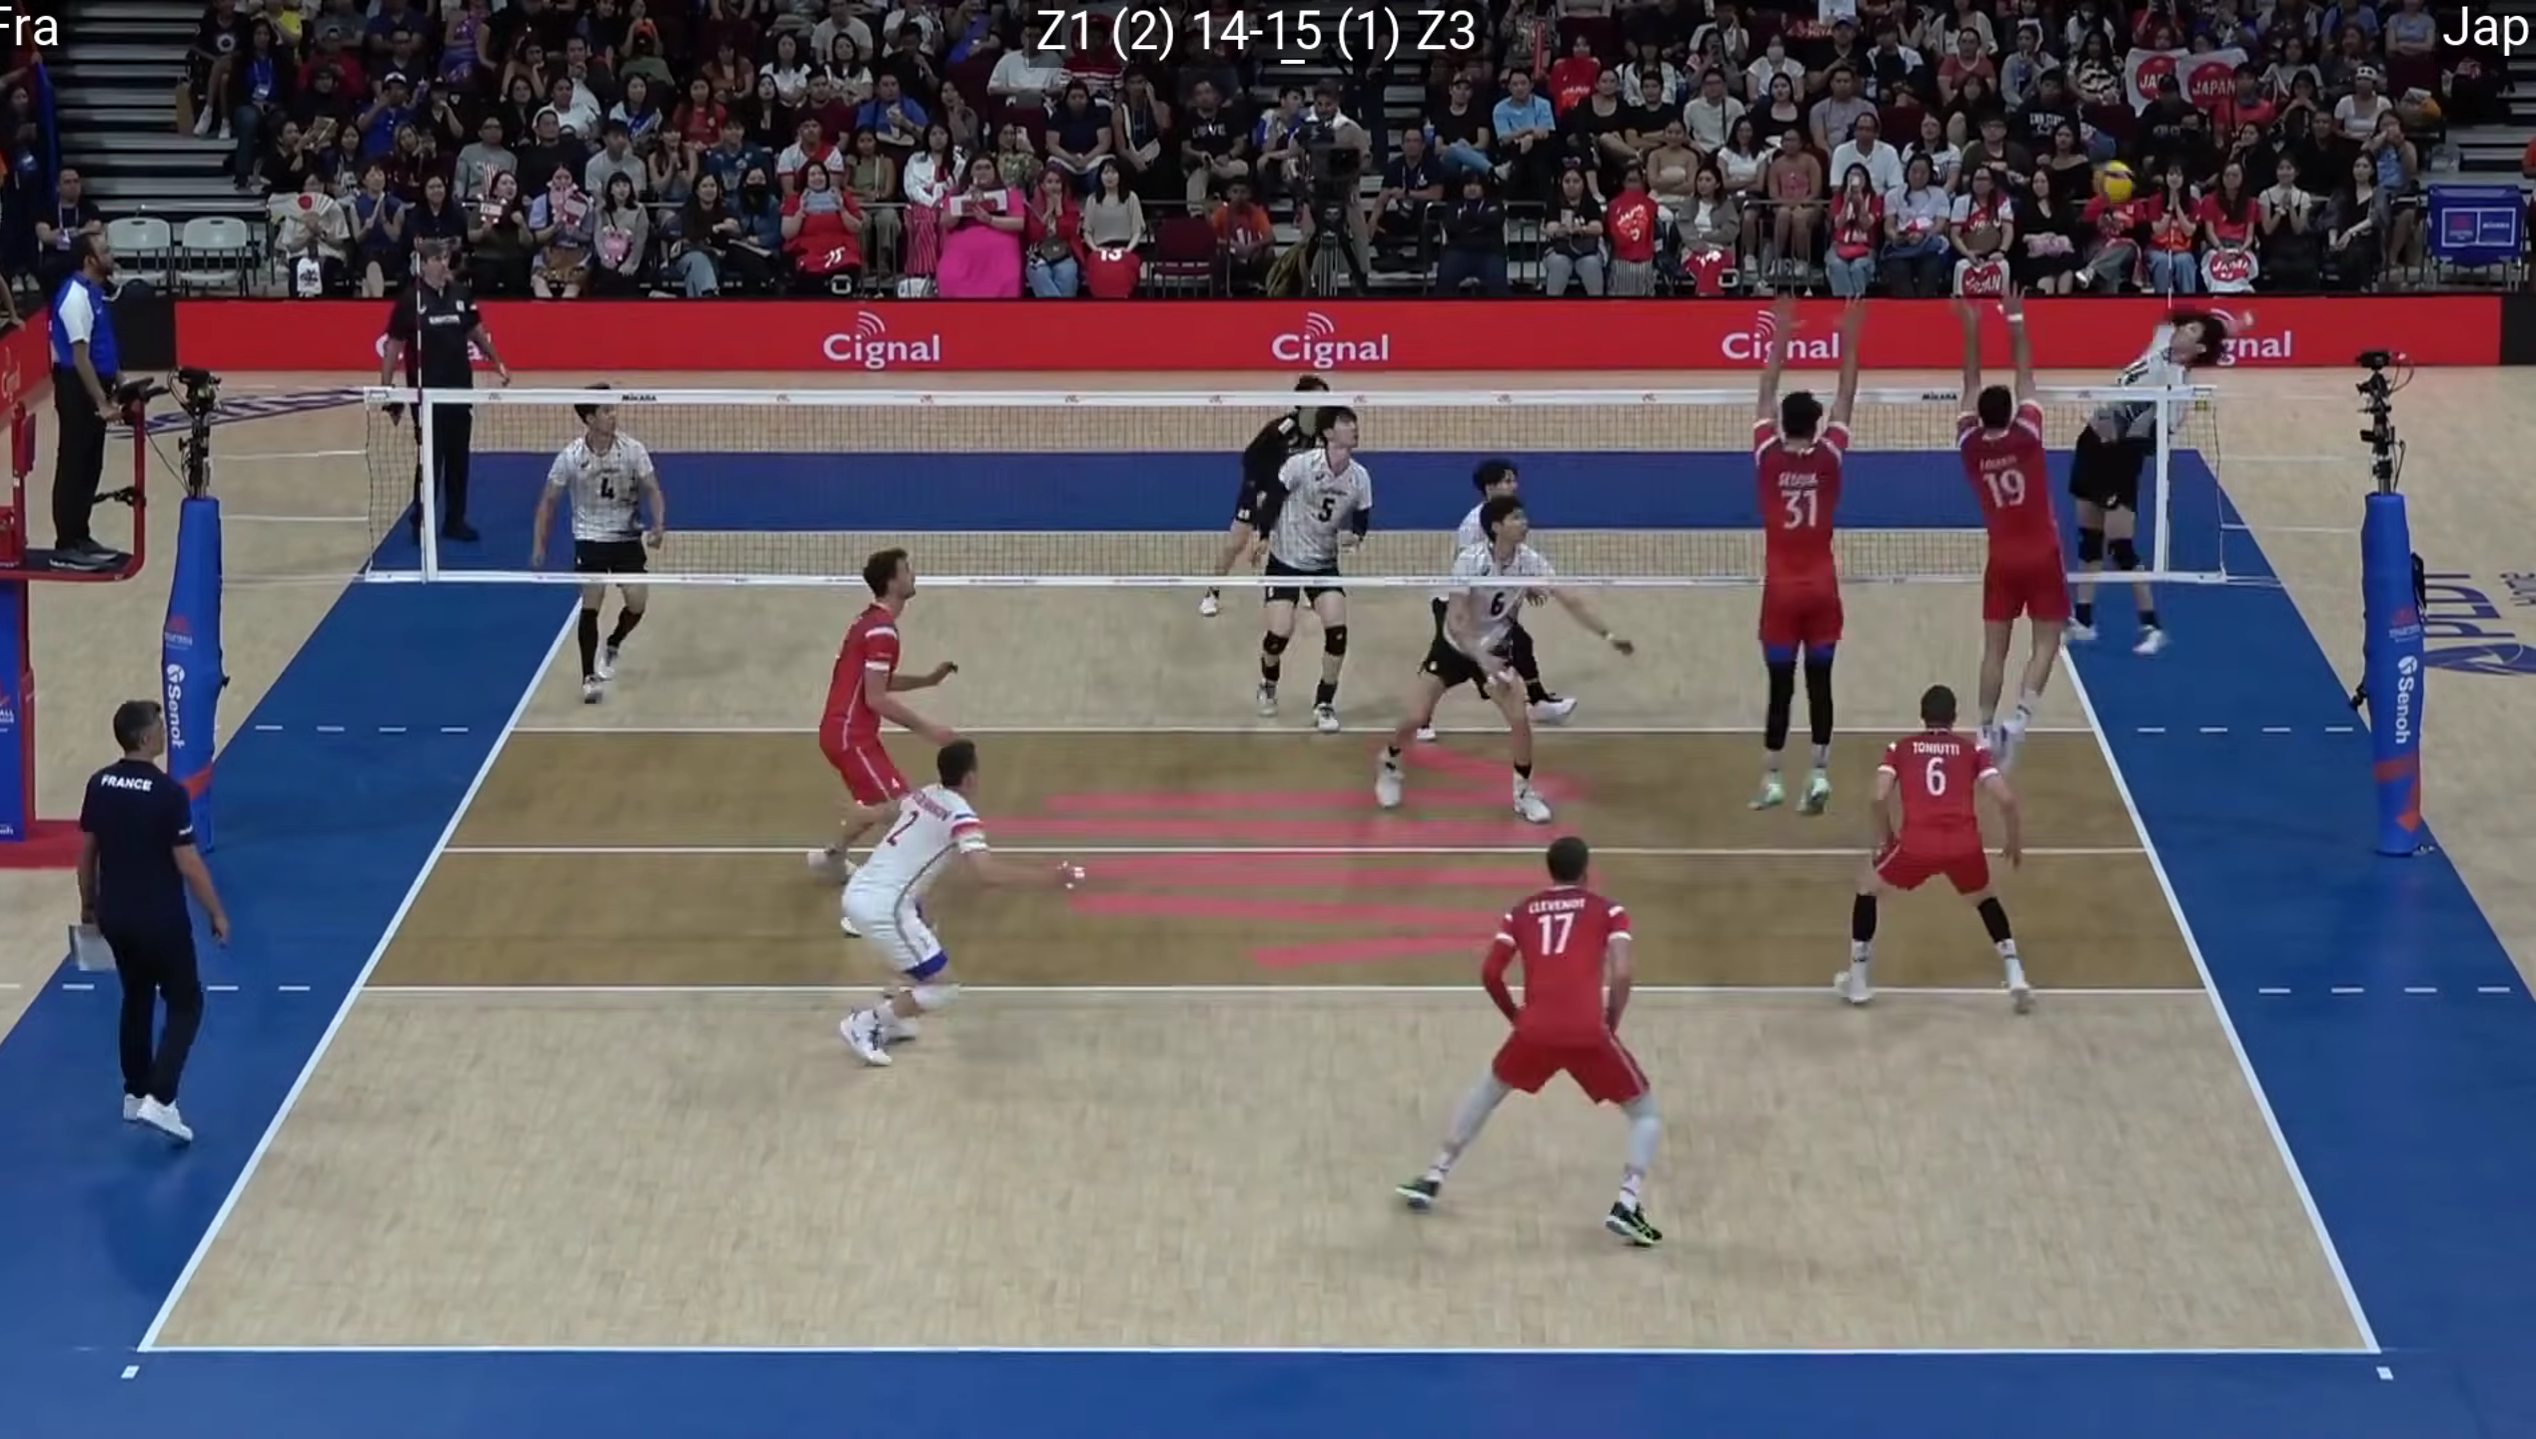Ball: (2092, 159, 2137, 204)
